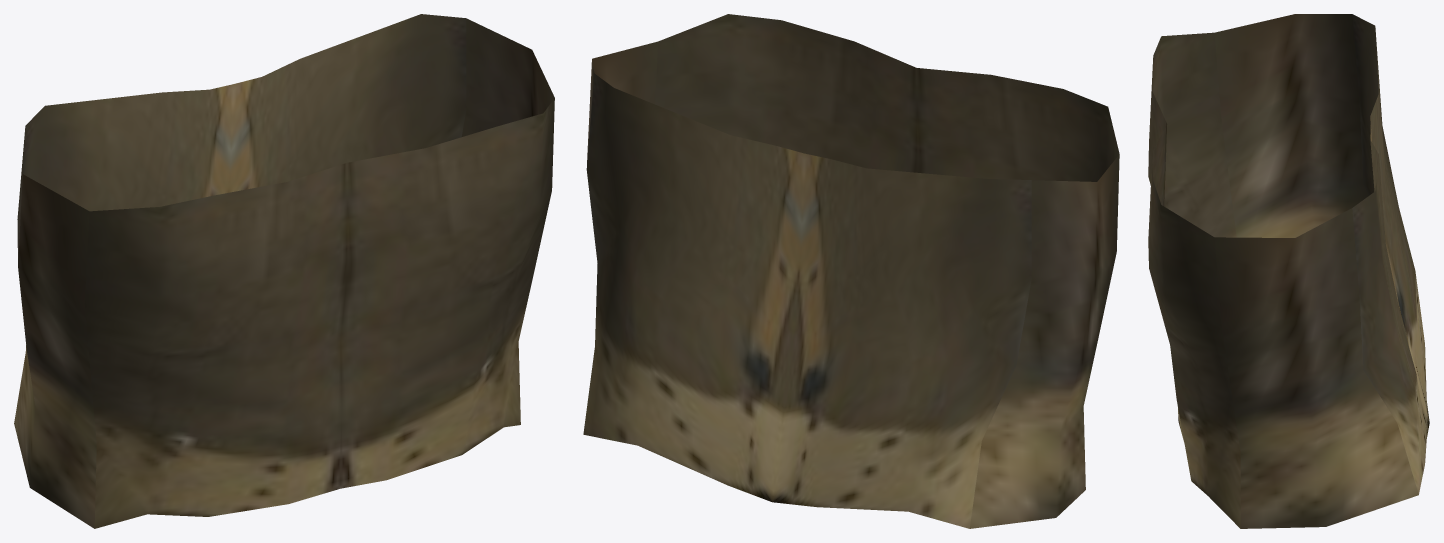
The model's file is middle2.fbx.
The picture shows the model from 3 angles, left to right: view 1: azimuth 30°, elevation 25°; view 2: azimuth 150°, elevation 25°; view 3: azimuth 270°, elevation 25°; orthographic projection. The views are drawn at different scales.
Visible parts, largest first — view 1: Mesh_001; view 2: Mesh_001; view 3: Mesh_001.
Part boxes in pixels (x1,y1,x2,y2): Mesh_001: [14, 14, 554, 528]; Mesh_001: [583, 14, 1119, 528]; Mesh_001: [1148, 14, 1429, 528].
Size of the model in its own units: 8.38 by 5.68 by 4.43.
